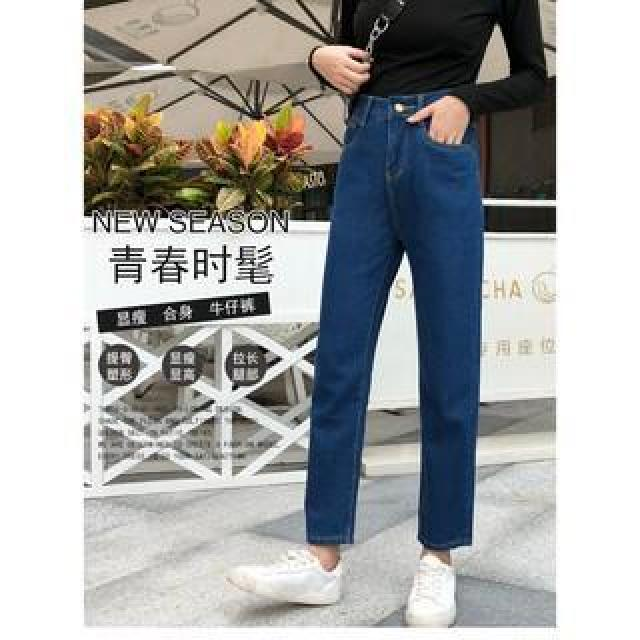pants: (304, 87, 484, 559)
